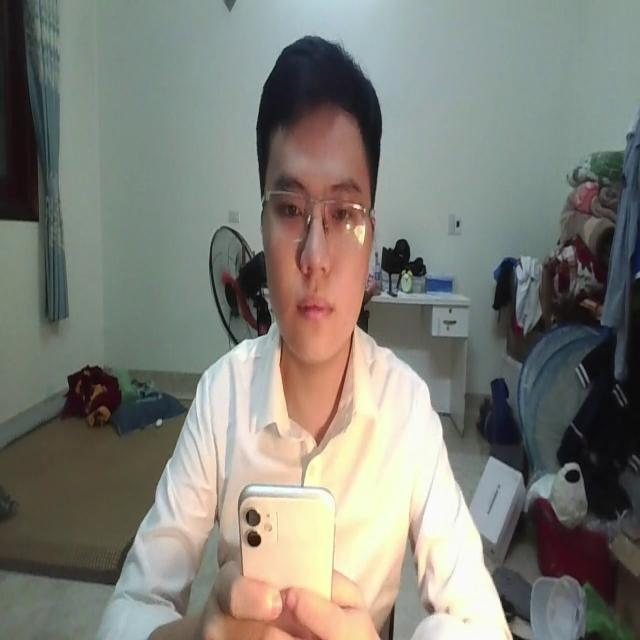phone: (236, 474, 337, 614)
student: (96, 32, 517, 640)
